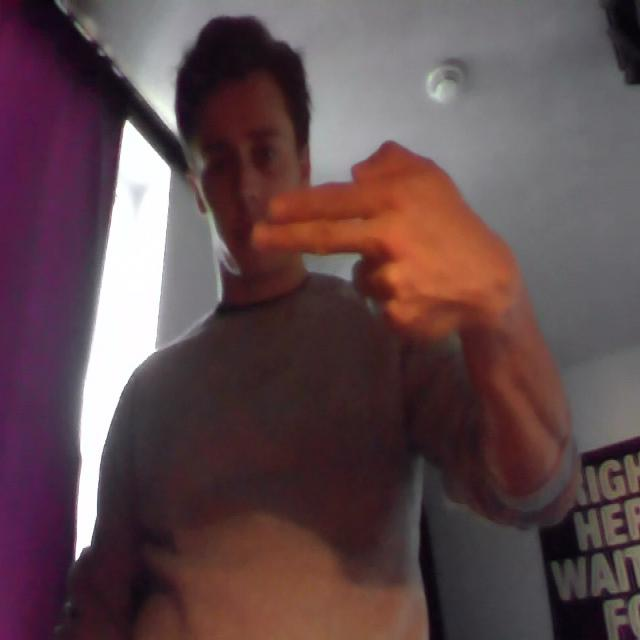left: (252, 130, 511, 352)
